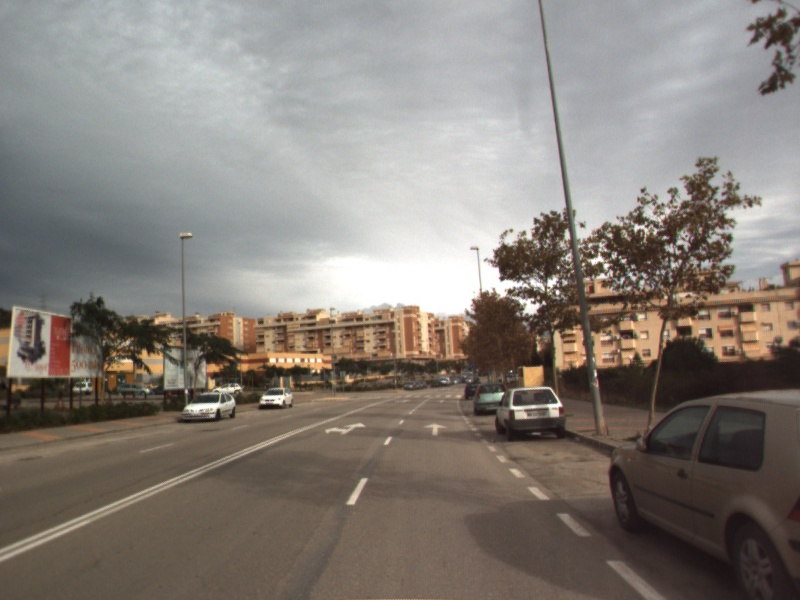STRAIGHT: (422, 420, 449, 437)
STRAIGHT_LEFT: (322, 420, 369, 437)
